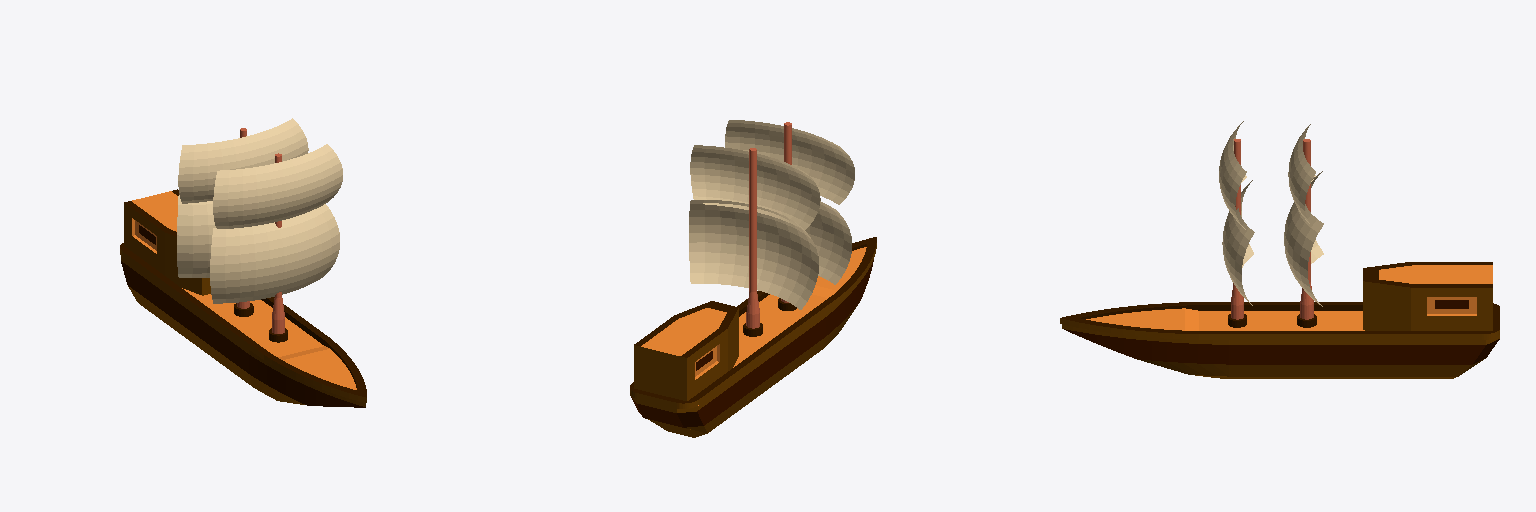
File: ship1.obj
The picture shows the model from 3 angles: view 1: azimuth 30°, elevation 25°; view 2: azimuth 150°, elevation 25°; view 3: azimuth 270°, elevation 25°; orthographic projection.
Visible parts, largest first — view 1: mergedBlocks; view 2: mergedBlocks; view 3: mergedBlocks.
Boxes of the visible parts, x1,y1,x2,y2 form: mergedBlocks: [120, 118, 366, 407]; mergedBlocks: [630, 120, 876, 437]; mergedBlocks: [1060, 121, 1499, 378].
Bounding box in the file's own units: 1.95 × 3.32 × 5.7.